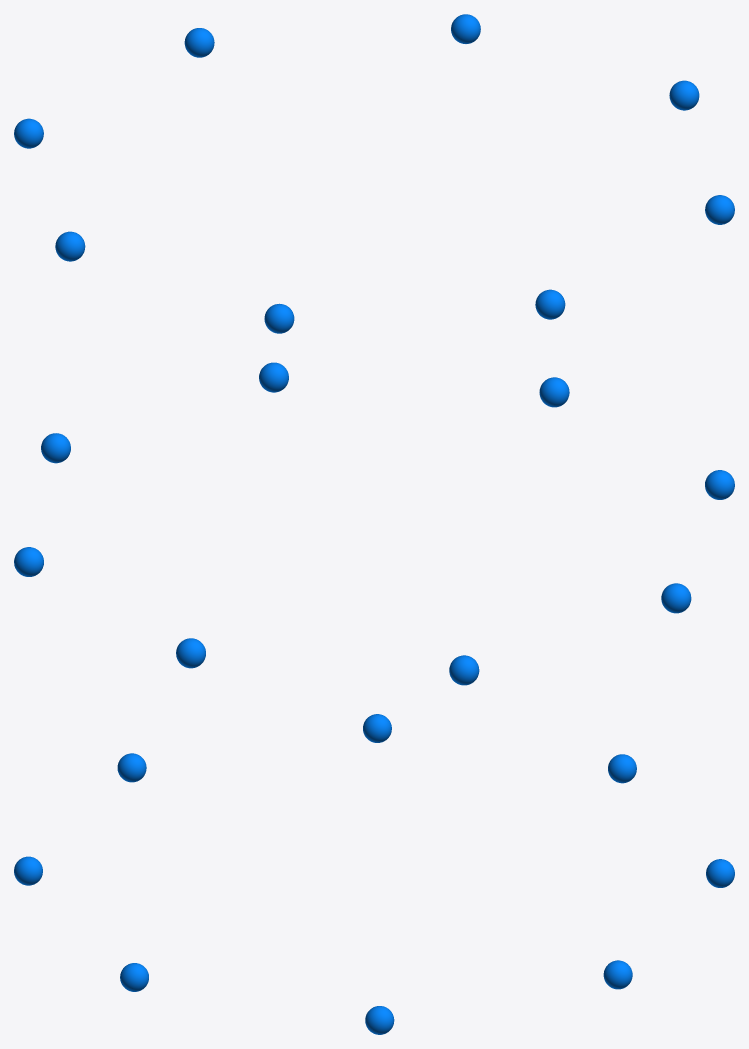
The picture shows the model from 3 angles, top to bottom: view 1: azimuth 30°, elevation 25°; view 2: azimuth 150°, elevation 25°; view 3: azimuth 270°, elevation 25°; orthographic projection. The views are drawn at different scales.
Parts seen in each view (by area): view 1: Sphere052; view 2: Sphere052; view 3: Sphere052.
Boxes of the visible parts, x1=… form: Sphere052: x1=14, y1=14, x2=734, y2=333; Sphere052: x1=14, y1=362, x2=734, y2=685; Sphere052: x1=14, y1=714, x2=734, y2=1034.
Size of the model in its own units: 203 by 8.22 by 203.
